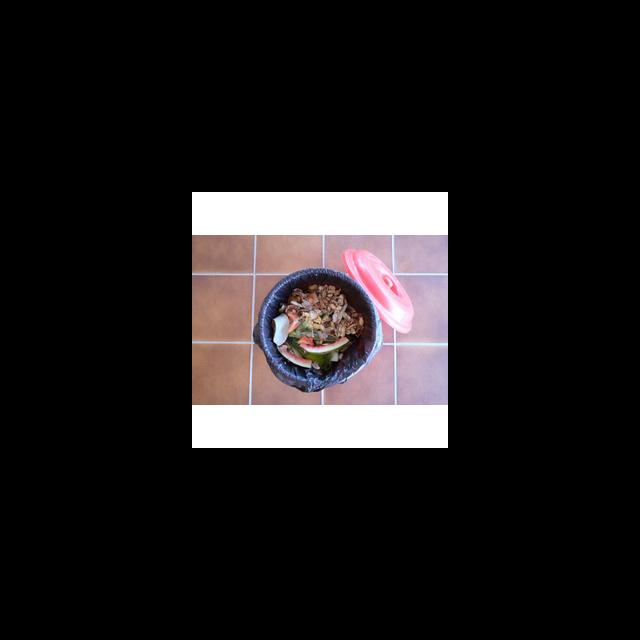food_waste: (272, 285, 364, 367)
